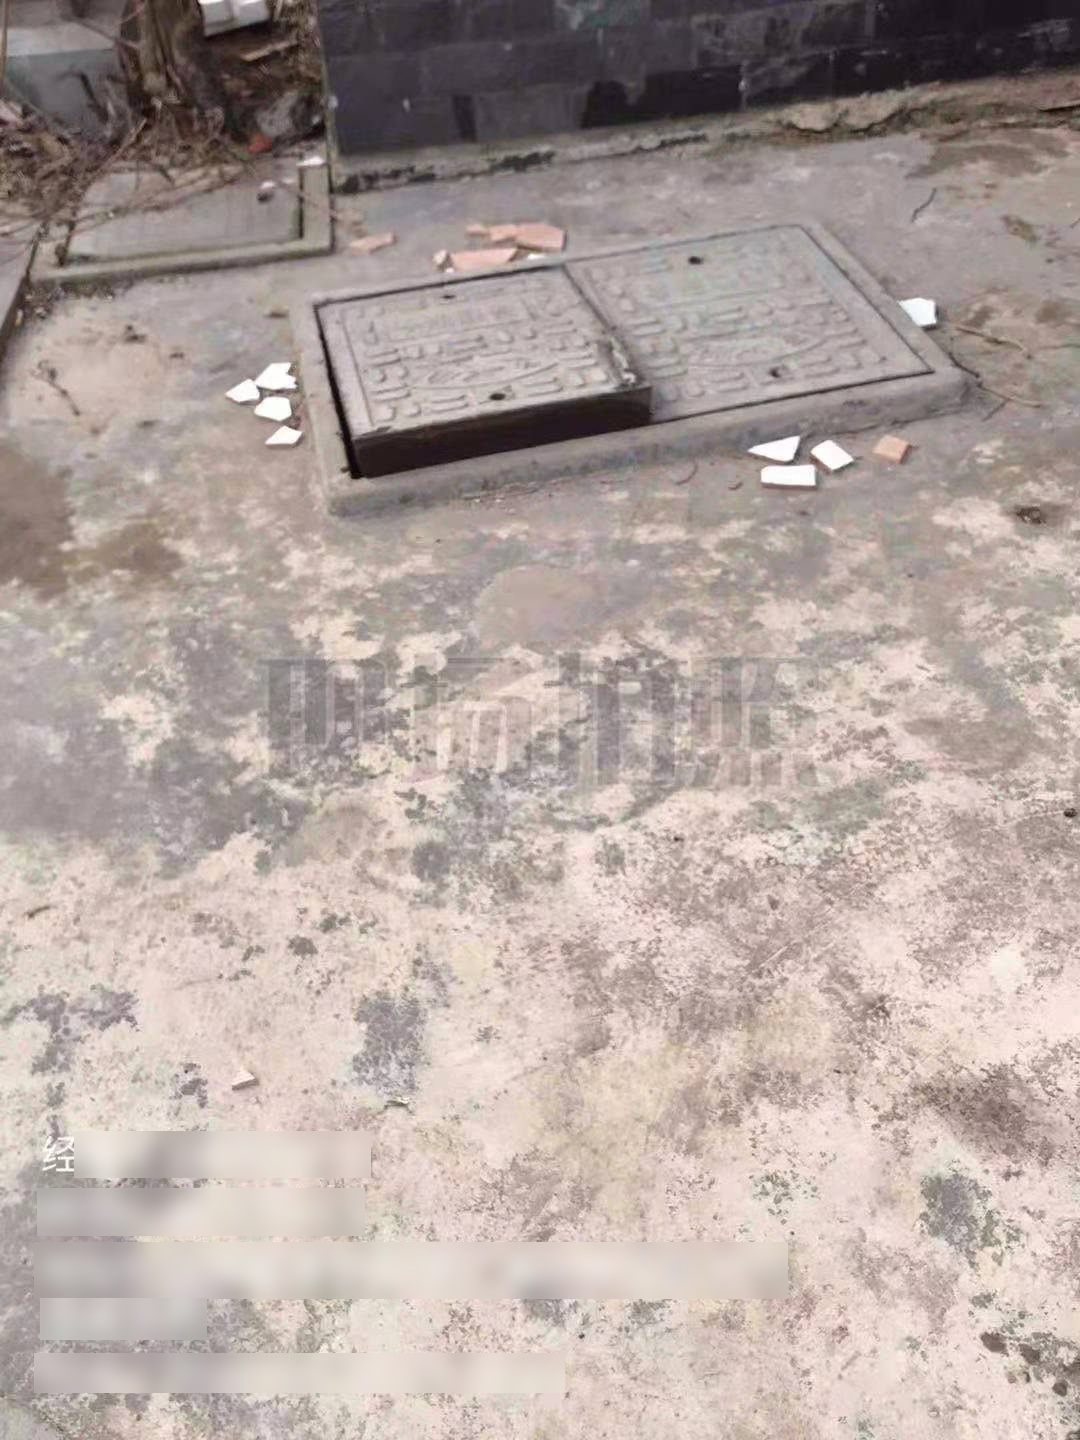good: (29, 136, 334, 277)
uncovered: (289, 219, 969, 513)
